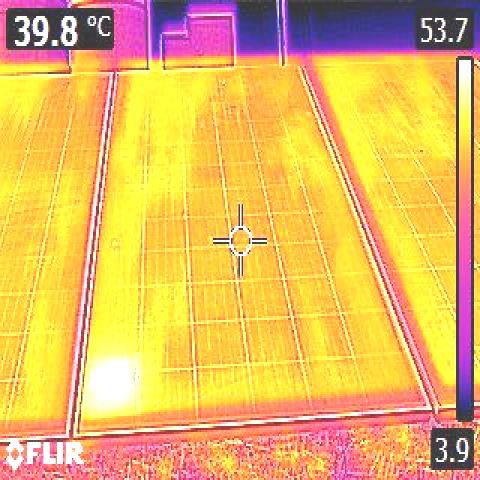fault: (88, 364, 136, 412)
